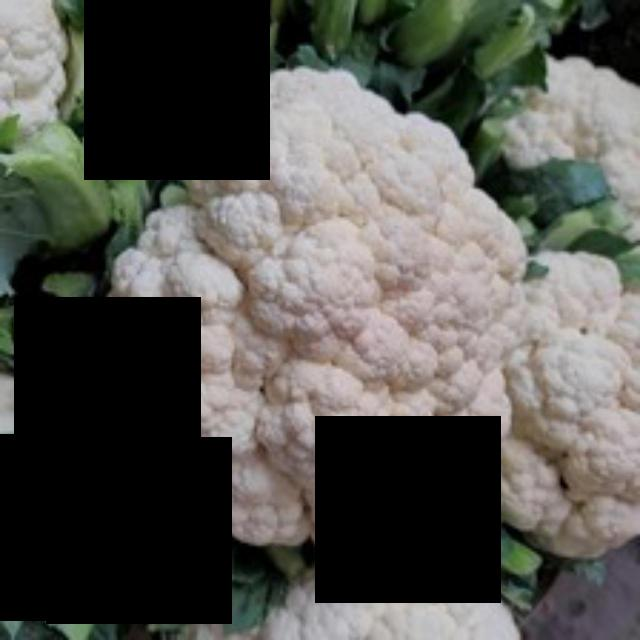cauliflower: (95, 64, 537, 580)
